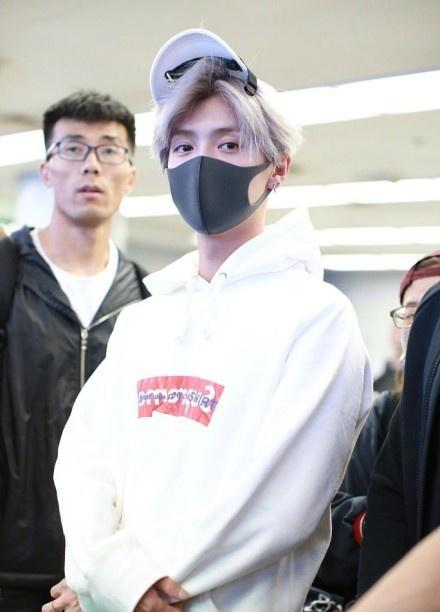NONE: (46, 134, 133, 215)
OK: (165, 118, 279, 232)
